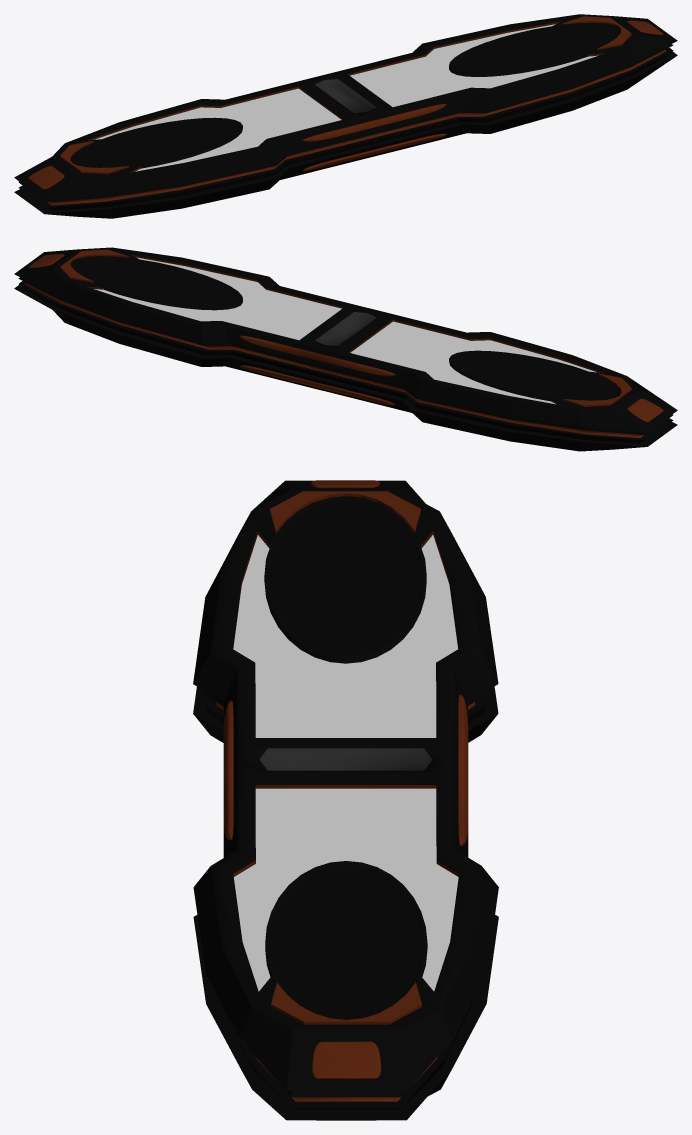
Rendered from HoverBoard.obj.
3 renders of one model, top to bottom at view 1: azimuth 30°, elevation 25°; view 2: azimuth 150°, elevation 25°; view 3: azimuth 270°, elevation 25°, orthographic. The views are drawn at different scales.
Parts seen in each view (by area): view 1: Cube_Cube.001; view 2: Cube_Cube.001; view 3: Cube_Cube.001.
Boxes of the visible parts, box(x1,y1,x2,y2) form: Cube_Cube.001: box(14, 14, 677, 218); Cube_Cube.001: box(14, 247, 677, 451); Cube_Cube.001: box(193, 480, 498, 1120).
Bounding box in the file's own units: 32.42 × 2.31 × 6.78.
